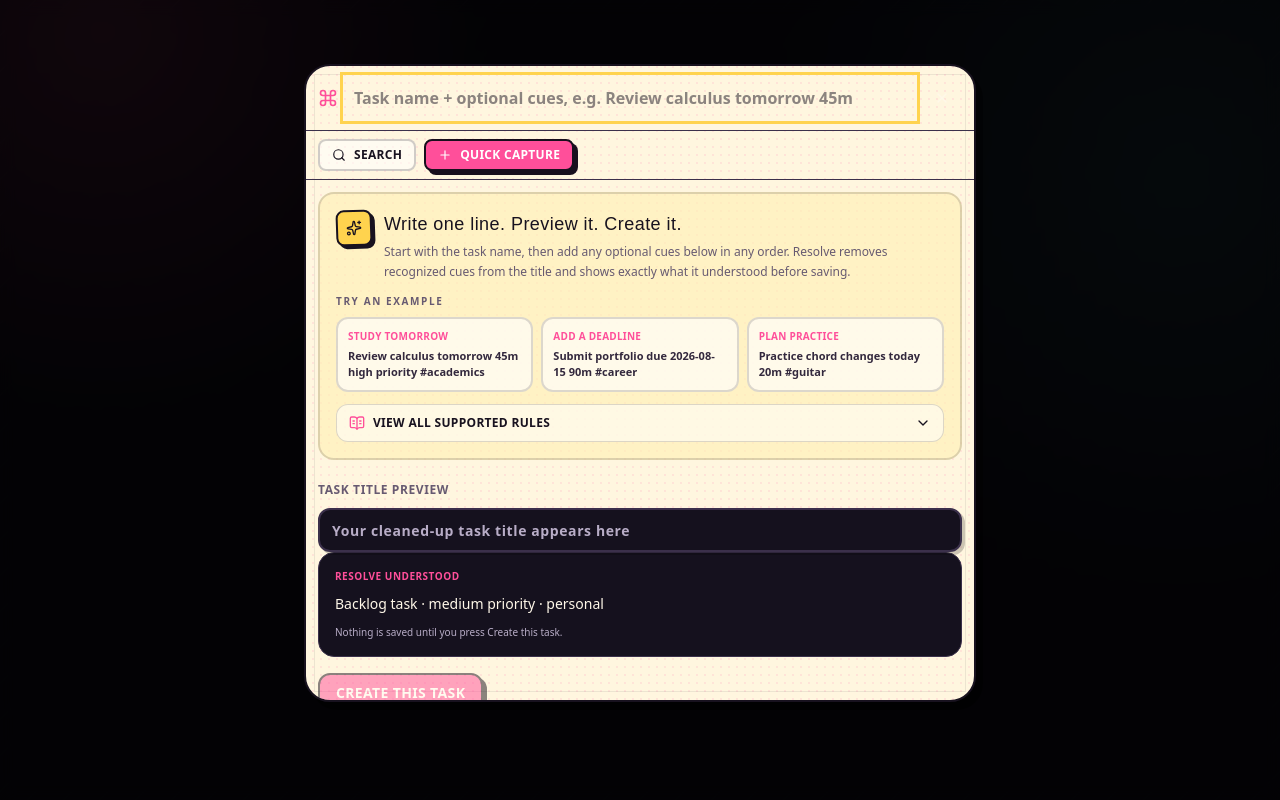
Test case: global command palette › explains every capture step and lets users load a working example
expect the text "Write one line. Preview it. Create it." is shown: met, box left=384, top=214, right=682, bottom=234
expect the text "Nothing is saved until you press Create this task." is shown: met, box left=335, top=625, right=562, bottom=639
What coordinates should you click on to do the following:
click the button with aria-label "Use example: Review calculus tomorrow 45m high priority #aca"
I would click on:
 (435, 354)
Its box is left=336, top=317, right=533, bottom=392.
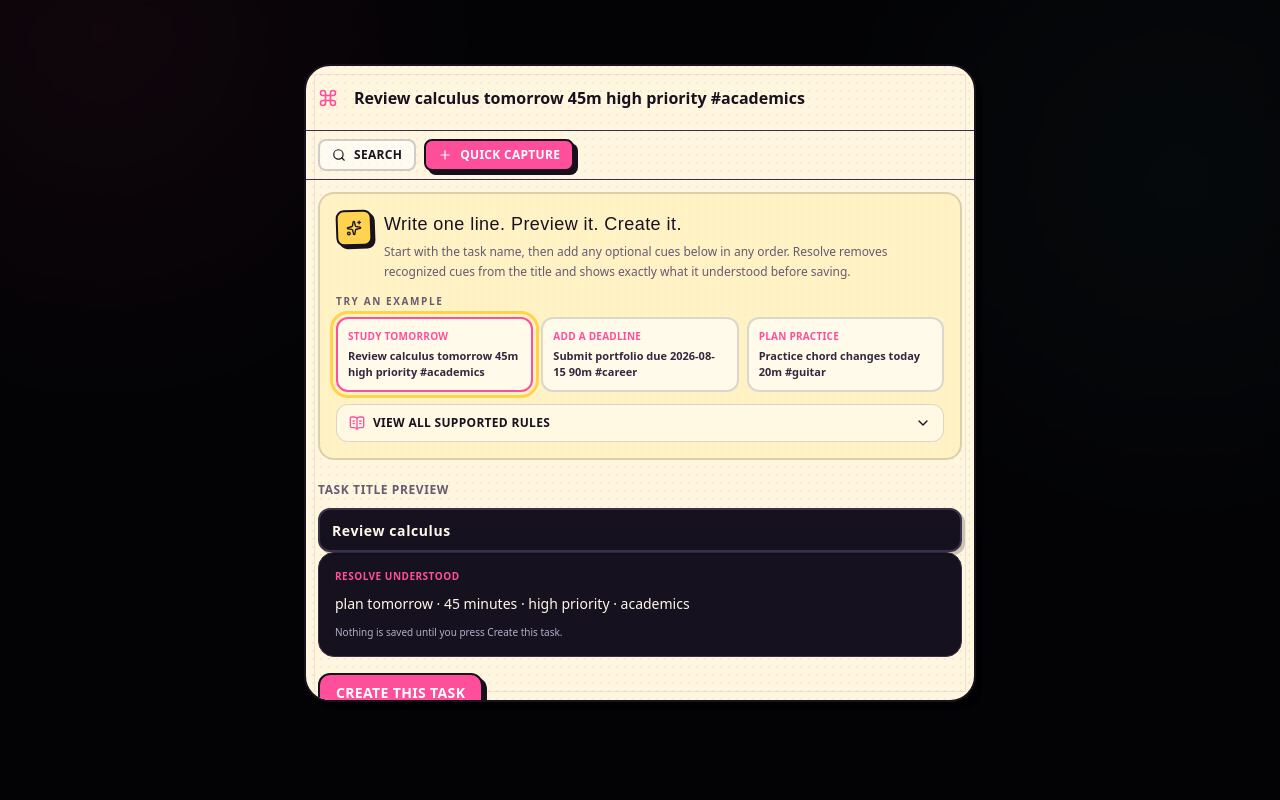
expect the field named "Describe a task" holds "Review calculus tomorrow 45m high priority #academics": met, box left=346, top=78, right=914, bottom=118
expect the field showing "Review calculus" is shown: met, box left=318, top=508, right=962, bottom=552
expect the text "plan tomorrow · 45 minutes · high priority · academics" is shown: met, box left=335, top=594, right=690, bottom=613
